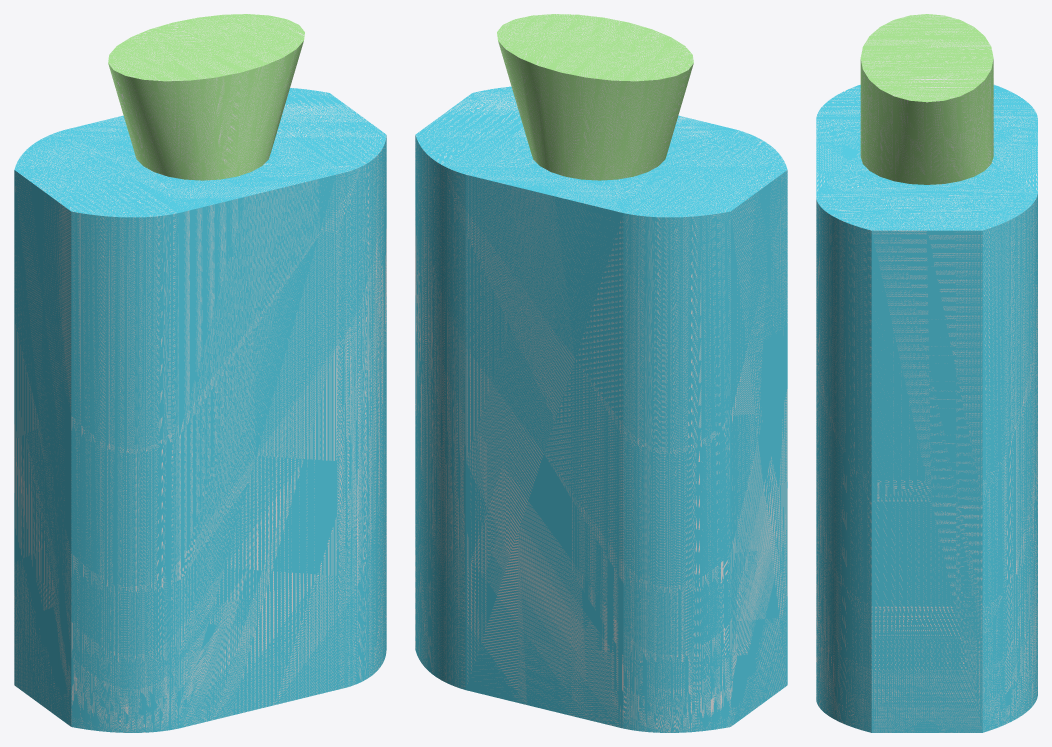
File: Shampoo_Travel.dae
3 views of the same model, side by side, from view 1: azimuth 30°, elevation 25°; view 2: azimuth 150°, elevation 25°; view 3: azimuth 270°, elevation 25° (orthographic). The views are drawn at different scales.
Visible parts, largest first — view 1: SketchUp (×2); view 2: SketchUp (×2); view 3: SketchUp (×2).
Part boxes in pixels (x1,y1,x2,y2): SketchUp (×2): (14,14,386,732); SketchUp (×2): (415,14,787,732); SketchUp (×2): (816,14,1037,732).
Size of the model in its own units: 2.52 by 1.58 by 4.72.
